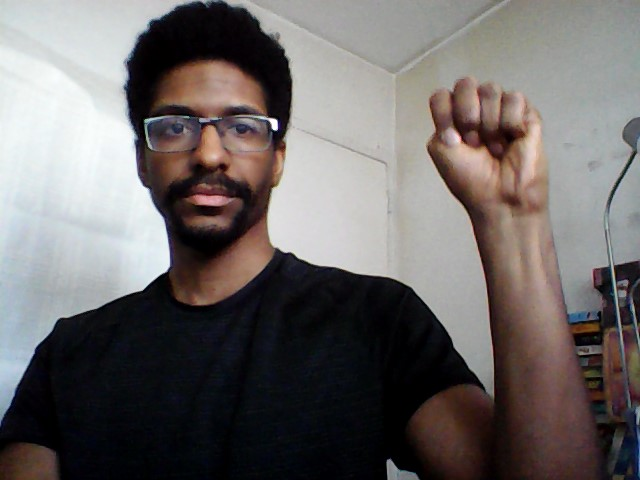m: (423, 71, 557, 216)
